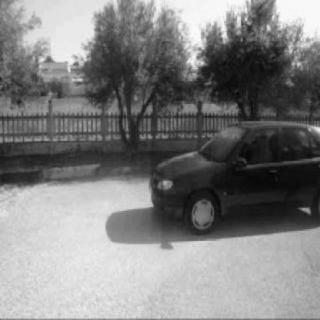other: (146, 107, 316, 231)
